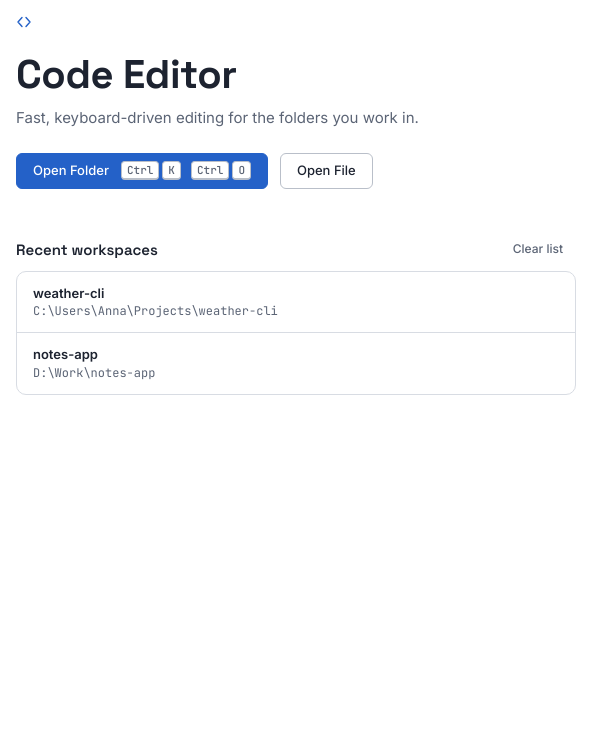
Test: Welcome › clears the list through session.clearRecent and the store
Click the button with test id "clear-recent".
click(538, 250)  # box [500, 237, 576, 263]
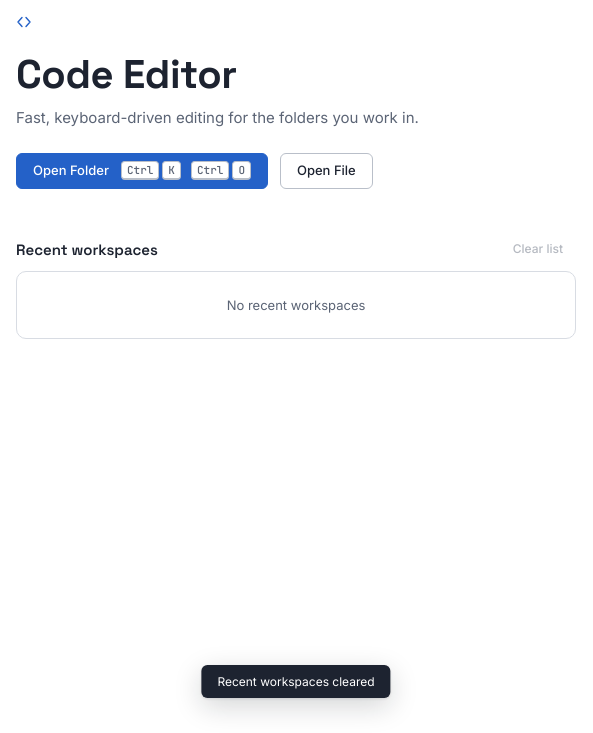
Result: the text with test id "recent-empty" reads "No recent workspaces" at [227, 297, 365, 313]
Result: no buttons with test id "recent-item" are shown
Result: the button with test id "clear-recent" is disabled at [500, 237, 576, 263]
